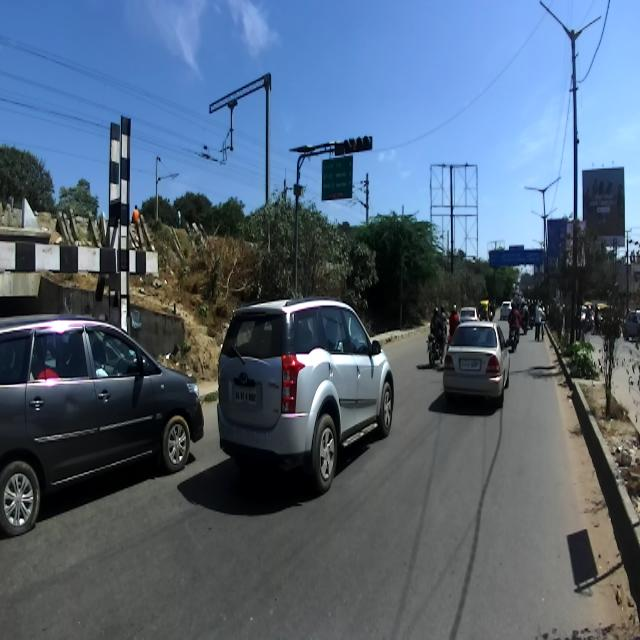car ahead at: (0, 310, 206, 524), (213, 297, 397, 504), (438, 314, 512, 422)
